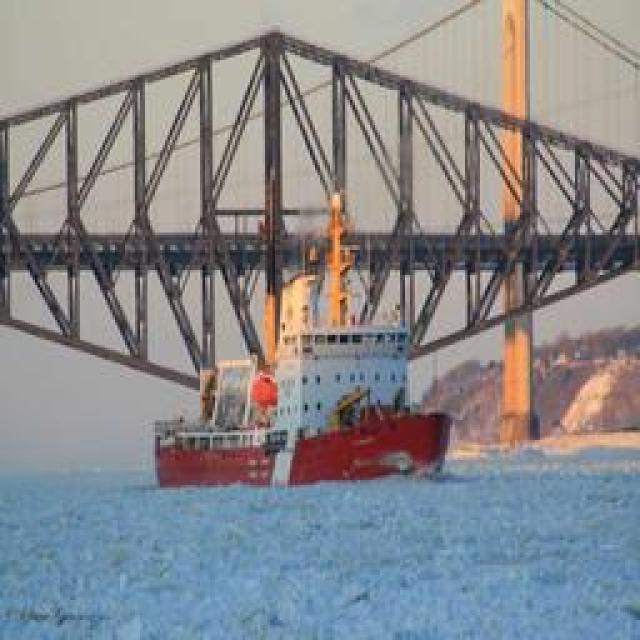ship2: (154, 196, 452, 493)
